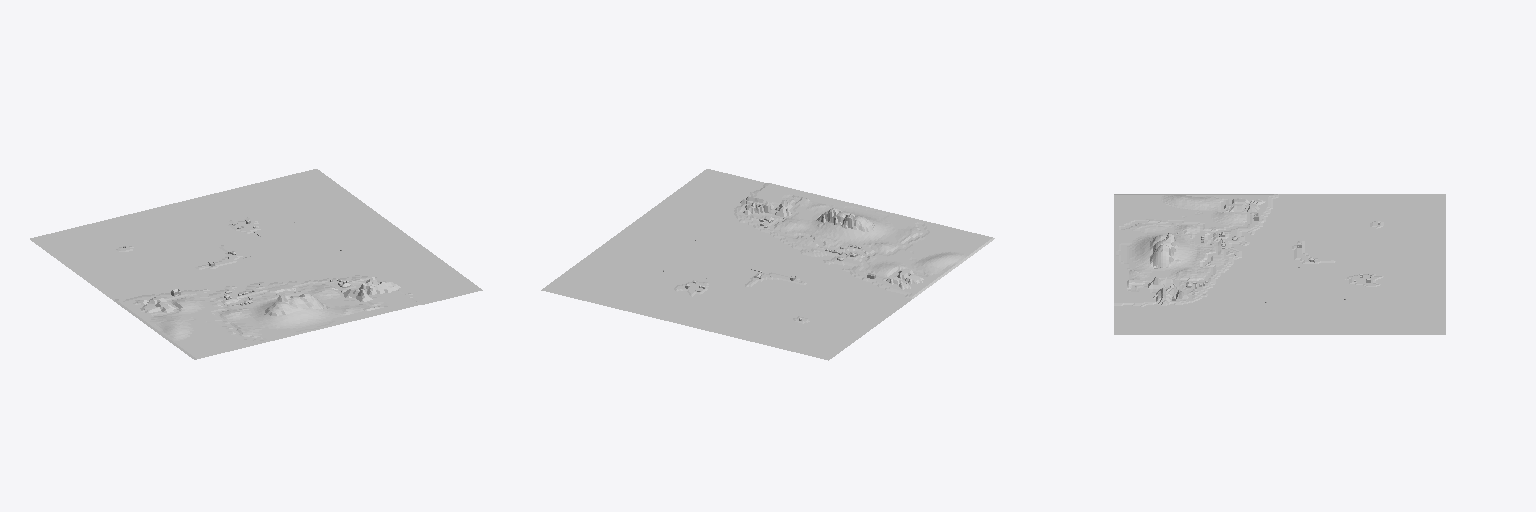
Rendered from OutD2.Odm 1.obj.
The picture shows the model from 3 angles: view 1: azimuth 30°, elevation 25°; view 2: azimuth 150°, elevation 25°; view 3: azimuth 270°, elevation 25°; orthographic projection.
Visible parts, largest first — view 1: _Ground_; view 2: _Ground_; view 3: _Ground_.
Part boxes in pixels (left/top/right/bottom): _Ground_: left=30, top=169, right=482, bottom=359; _Ground_: left=541, top=169, right=994, bottom=360; _Ground_: left=1114, top=194, right=1445, bottom=334.
Bounding box in the file's own units: 65024 × 3728 × 65024.